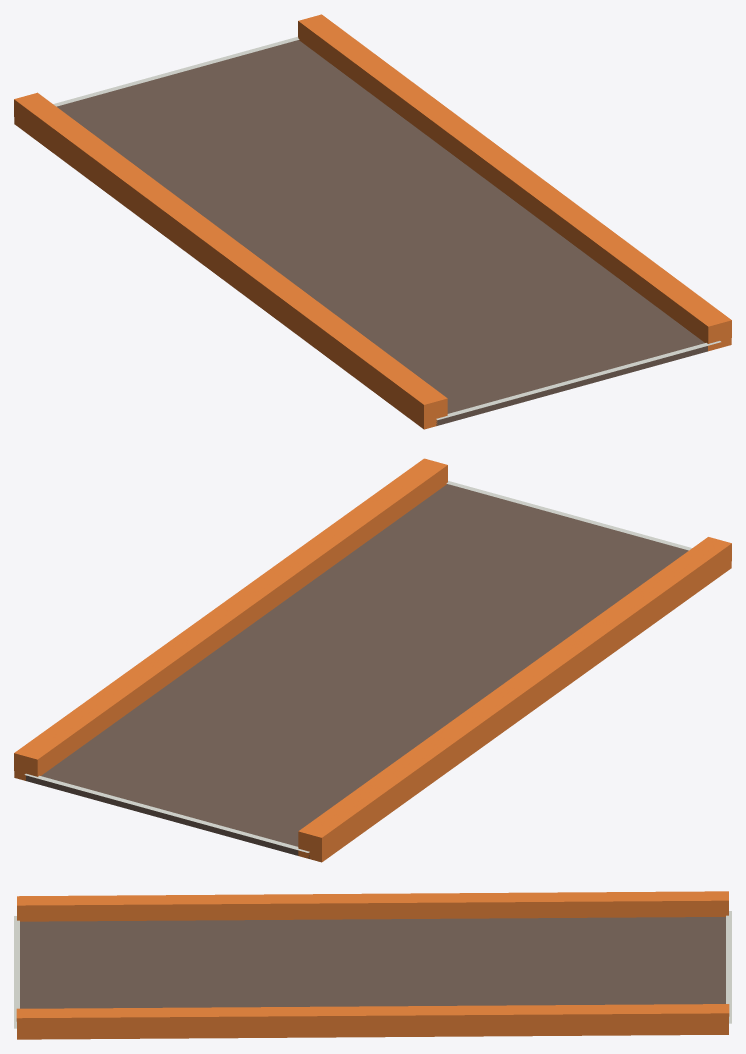
Rendered from SM_MP_Film_C_3_2.fbx.
The picture shows the model from 3 angles, top to bottom: view 1: azimuth 30°, elevation 25°; view 2: azimuth 150°, elevation 25°; view 3: azimuth 270°, elevation 25°; orthographic projection. The views are drawn at different scales.
Visible parts, largest first — view 1: SM_MP_Film_C_3_2; view 2: SM_MP_Film_C_3_2; view 3: SM_MP_Film_C_3_2.
Part boxes in pixels (x1,y1,x2,y2): SM_MP_Film_C_3_2: (14,14,731,429); SM_MP_Film_C_3_2: (14,458,731,862); SM_MP_Film_C_3_2: (14,891,731,1039).
Size of what is drawn, in the model's own units: 260 by 605 by 32.33.
